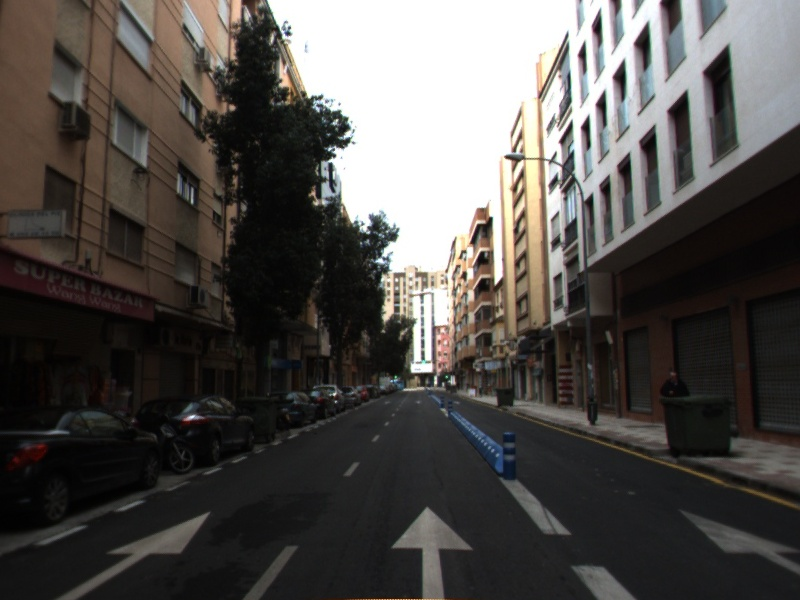STRAIGHT: (54, 510, 212, 600), (678, 508, 800, 576), (389, 505, 474, 600)
